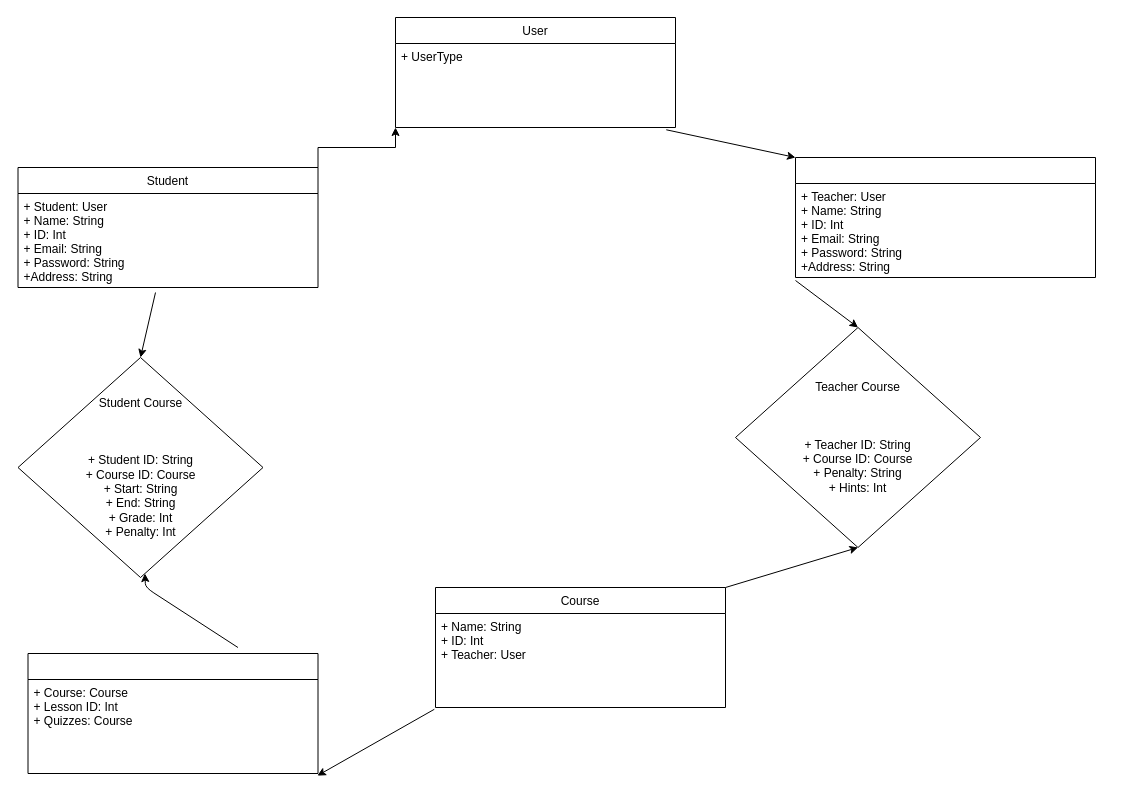
The diagram is 1121 pixels wide and 802 high, and some of its shapes have lost their labels. Here are the shapes that lost their labels. From the top down, the box of each, then its label:
(794, 156, 1096, 278): Instructor
(27, 652, 318, 774): Curriculum
